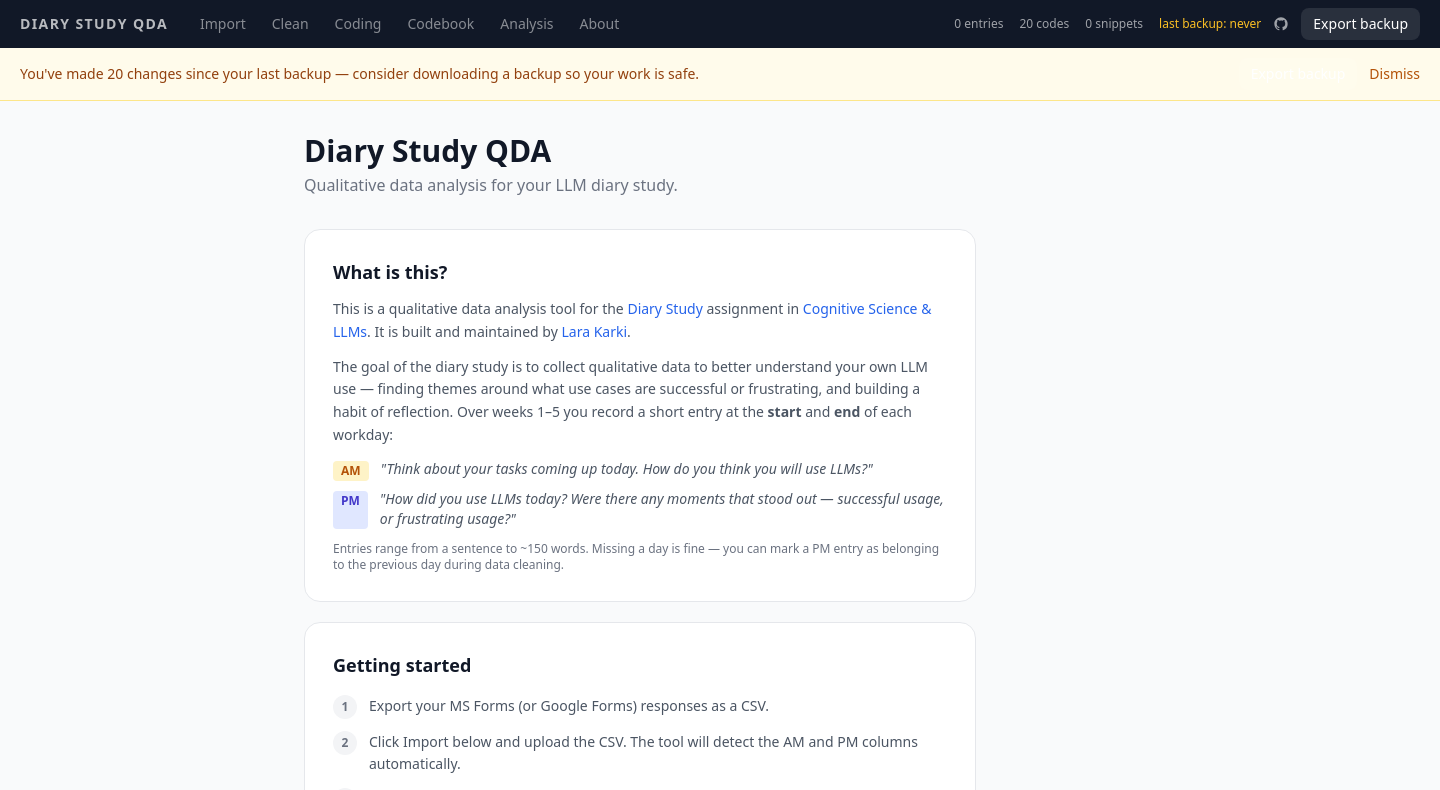
Test: App – change count backup banner › hides the banner and resets the count when Export backup is clicked
What coordinates should you click on to do the following:
click the button "Export backup" next to "never"
I would click on:
 (1361, 24)
Its box is [1301,8,1420,40].
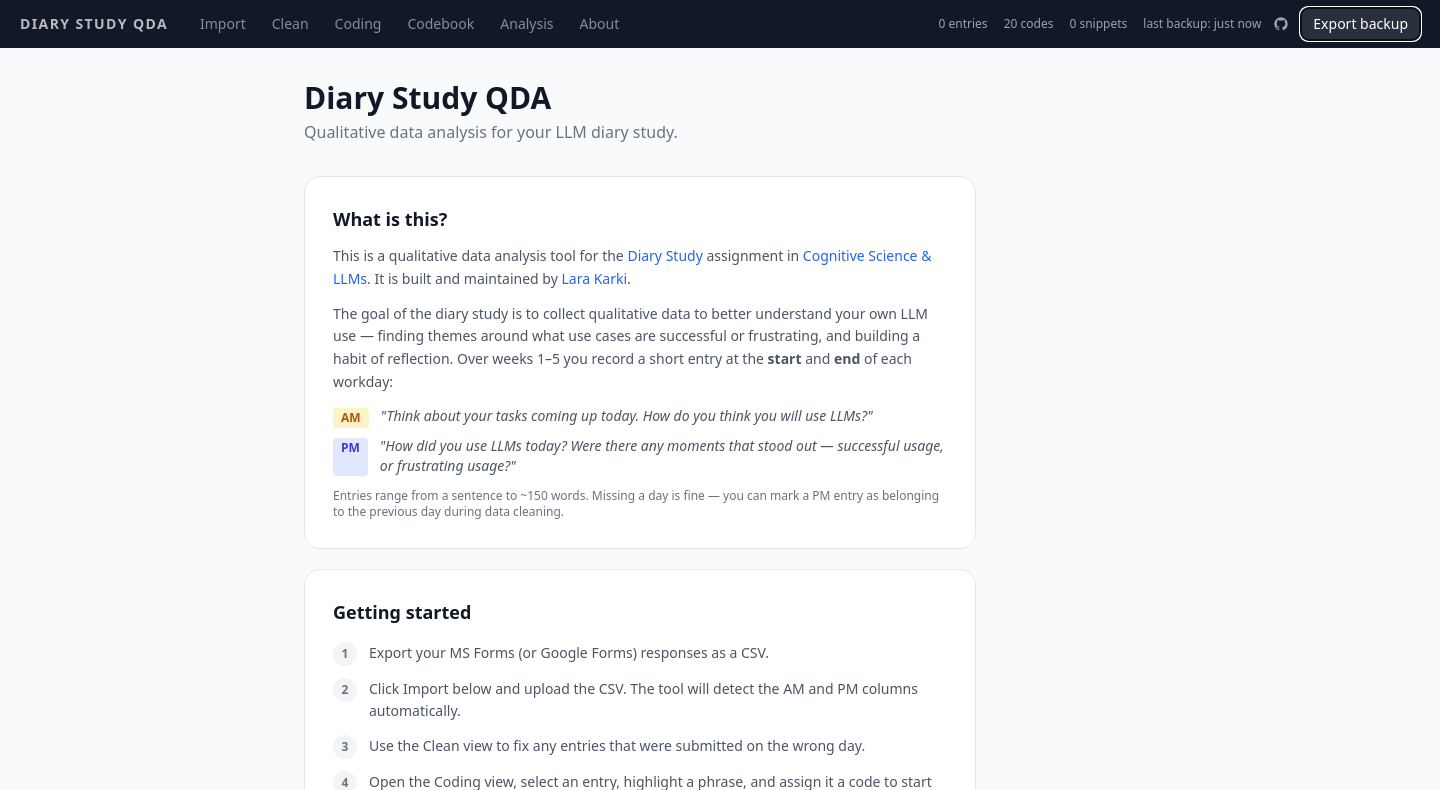
Now the text "changes since your last backup" is gone
